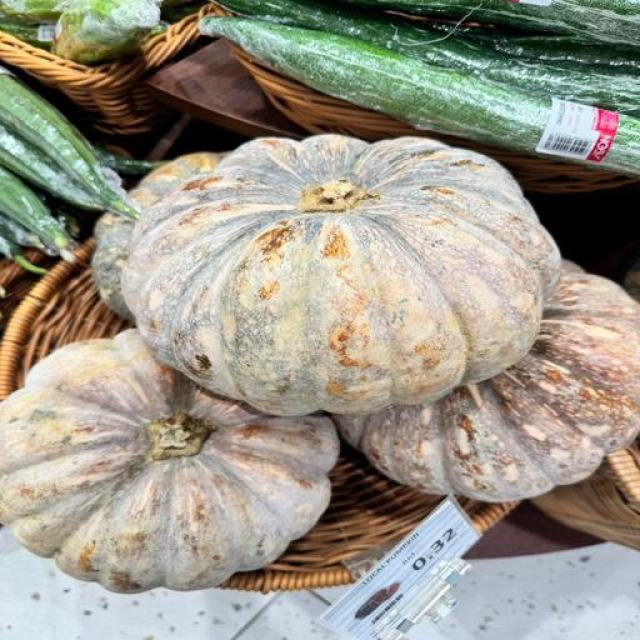organic: (224, 0, 639, 116), (202, 18, 551, 153), (0, 69, 137, 261), (0, 69, 137, 217), (343, 0, 639, 47), (428, 20, 639, 74), (0, 74, 99, 178), (0, 122, 103, 209), (469, 30, 639, 82), (219, 0, 406, 37), (54, 0, 159, 64), (0, 168, 71, 254), (0, 215, 46, 274), (0, 14, 52, 51), (94, 147, 164, 174), (0, 215, 47, 249), (0, 0, 61, 24), (162, 0, 206, 23), (57, 205, 81, 238), (12, 254, 46, 274), (147, 20, 169, 38), (162, 0, 193, 9)
